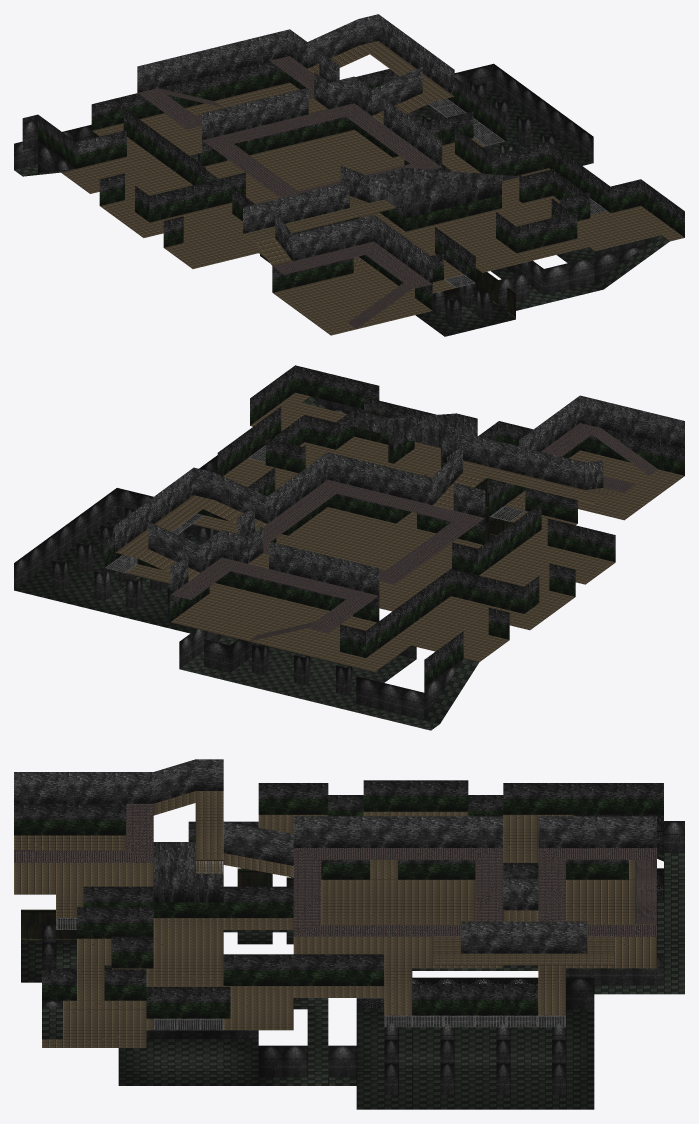
The model's file is Basement.glb.
3 views of the same model, one above another, from view 1: azimuth 30°, elevation 25°; view 2: azimuth 150°, elevation 25°; view 3: azimuth 270°, elevation 25° (orthographic). The views are drawn at different scales.
Parts seen in each view (by area): view 1: Basement_0, Basement_1, Basement_4, Basement_2, Basement_6, Basement_Alpha_5, Basement_9; view 2: Basement_0, Basement_1, Basement_4, Basement_6, Basement_2, Basement_Alpha_5, Basement_9; view 3: Basement_0, Basement_1, Basement_6, Basement_2, Basement_4, Basement_Alpha_5, Basement_9.
Part boxes in pixels (left/top/right/bottom): Basement_0: left=38, top=14, right=684, bottom=310; Basement_1: left=61, top=41, right=684, bottom=335; Basement_4: left=14, top=63, right=660, bottom=326; Basement_2: left=138, top=56, right=441, bottom=329; Basement_6: left=14, top=90, right=669, bottom=336; Basement_Alpha_5: left=353, top=98, right=606, bottom=287; Basement_9: left=260, top=217, right=515, bottom=318; Basement_0: left=104, top=365, right=684, bottom=686; Basement_1: left=115, top=392, right=684, bottom=671; Basement_4: left=14, top=396, right=522, bottom=719; Basement_6: left=14, top=397, right=499, bottom=730; Basement_2: left=170, top=423, right=658, bottom=641; Basement_Alpha_5: left=105, top=439, right=524, bottom=572; Basement_9: left=474, top=478, right=517, bottom=543; Basement_0: left=14, top=759, right=663, bottom=1018; Basement_1: left=14, top=791, right=656, bottom=1047; Basement_6: left=21, top=815, right=684, bottom=1109; Basement_2: left=14, top=803, right=656, bottom=936; Basement_4: left=42, top=814, right=684, bottom=1094; Basement_Alpha_5: left=56, top=918, right=565, bottom=1030; Basement_9: left=21, top=868, right=293, bottom=941.
Bounding box in the file's own units: 417 × 85.25 × 455.
Materials: 13 (13 with a texture image).
